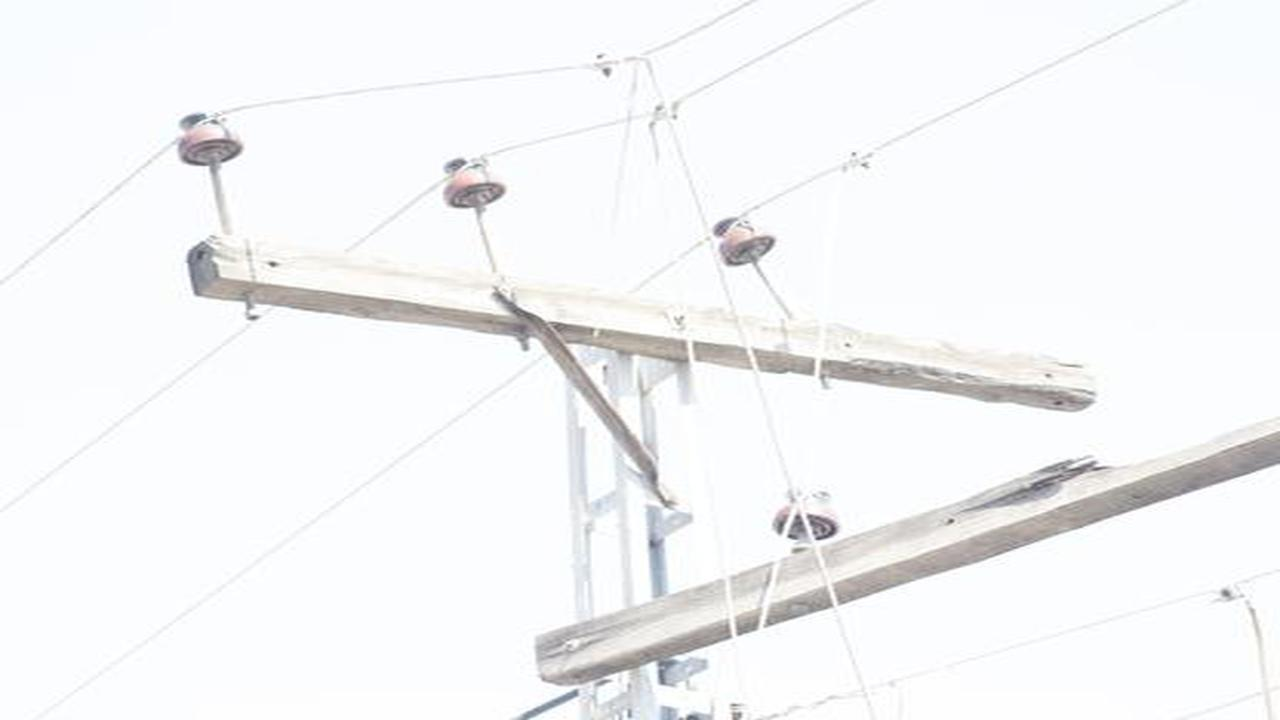insulator_pin: (770, 483, 844, 549), (437, 151, 510, 215), (177, 109, 245, 174), (712, 214, 778, 271)
